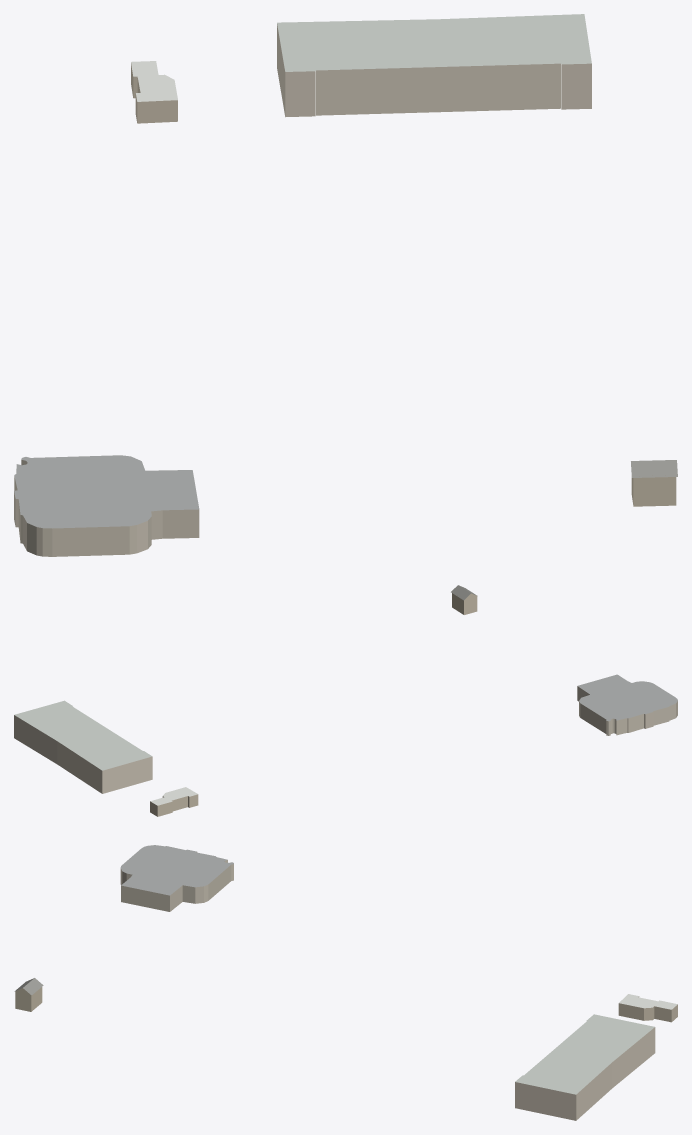
3 renders of one model, top to bottom at view 1: azimuth 30°, elevation 25°; view 2: azimuth 150°, elevation 25°; view 3: azimuth 270°, elevation 25°, orthographic. The views are drawn at different scales.
Visible parts, largest first — view 1: tuile; view 2: tuile; view 3: tuile.
Part boxes in pixels (<box>): tuile: <box>14,14,677,556</box>; tuile: <box>14,585,677,816</box>; tuile: <box>14,845,677,1120</box>.
Size of the model in its own units: 218 by 10.72 by 234.
